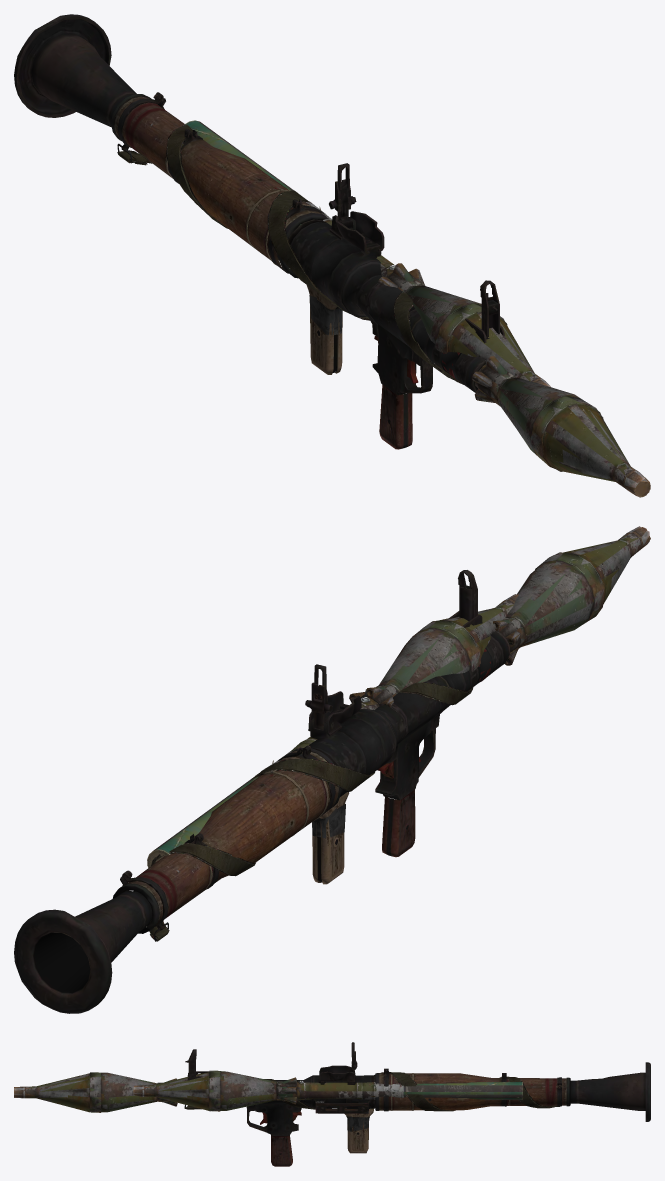
File: rpg7.entity.glb
3 renders of one model, top to bottom at view 1: azimuth 30°, elevation 25°; view 2: azimuth 150°, elevation 25°; view 3: azimuth 270°, elevation 25°, orthographic. The views are drawn at different scales.
Visible parts, largest first — view 1: w_rpg7_LOD0, rpg_rocket_standard_unfired_LOD0 (×2), rpg_rocket_hv_unfired_LOD0 (×2); view 2: w_rpg7_LOD0, rpg_rocket_standard_unfired_LOD0 (×2), rpg_rocket_hv_unfired_LOD0 (×2); view 3: w_rpg7_LOD0, rpg_rocket_standard_unfired_LOD0 (×2), rpg_rocket_hv_unfired_LOD0 (×2).
Part boxes in pixels (box(x1,y1,x2,y2)): w_rpg7_LOD0: box(14, 14, 504, 449); rpg_rocket_standard_unfired_LOD0 (×2): box(198, 121, 650, 496); rpg_rocket_hv_unfired_LOD0 (×2): box(184, 120, 650, 497); w_rpg7_LOD0: box(14, 570, 510, 1013); rpg_rocket_standard_unfired_LOD0 (×2): box(147, 527, 650, 865); rpg_rocket_hv_unfired_LOD0 (×2): box(147, 526, 649, 867); w_rpg7_LOD0: box(184, 1042, 650, 1166); rpg_rocket_standard_unfired_LOD0 (×2): box(14, 1070, 522, 1112); rpg_rocket_hv_unfired_LOD0 (×2): box(14, 1070, 522, 1112).
Size of the model in its own units: 0.1224 by 0.2803 by 1.3.
Materials: 5 (5 with a texture image).
